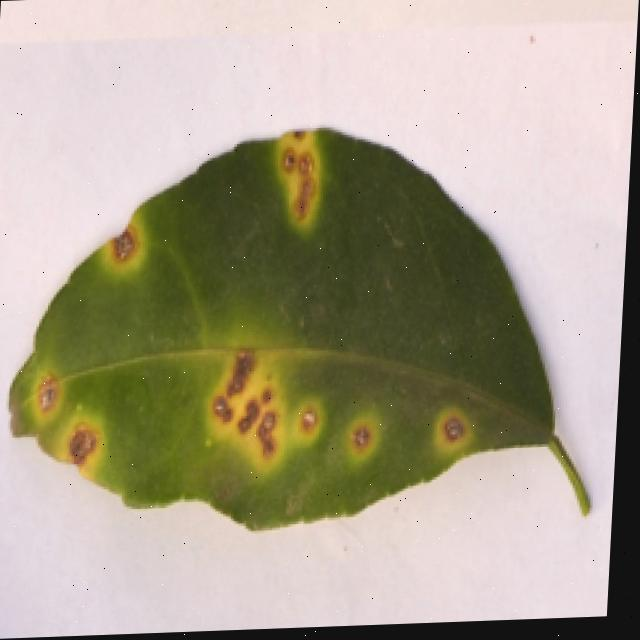canker: (9, 132, 586, 530), (204, 338, 338, 468), (271, 119, 329, 223), (335, 389, 393, 473), (96, 214, 153, 272), (428, 405, 488, 453), (23, 373, 76, 423), (64, 417, 113, 468)
